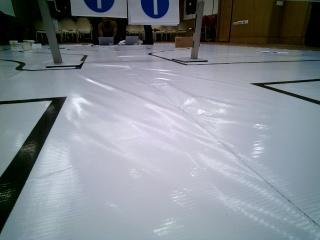straight: (128, 0, 181, 25), (73, 0, 129, 18)
